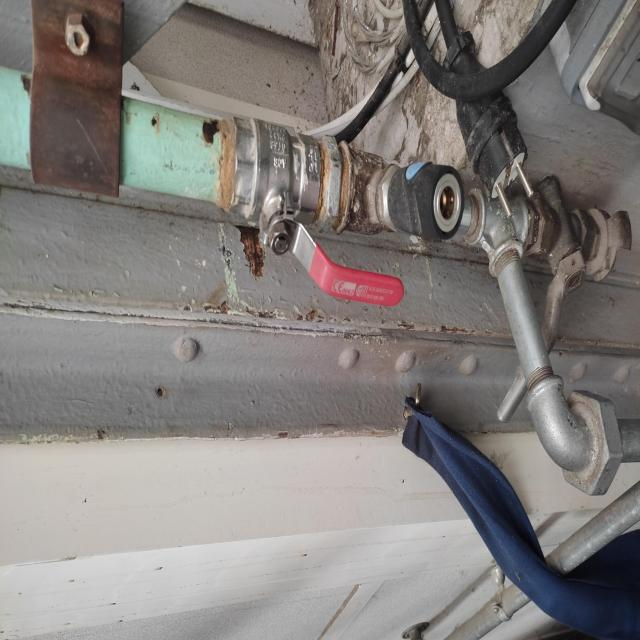opened_valve: (228, 109, 406, 309)
